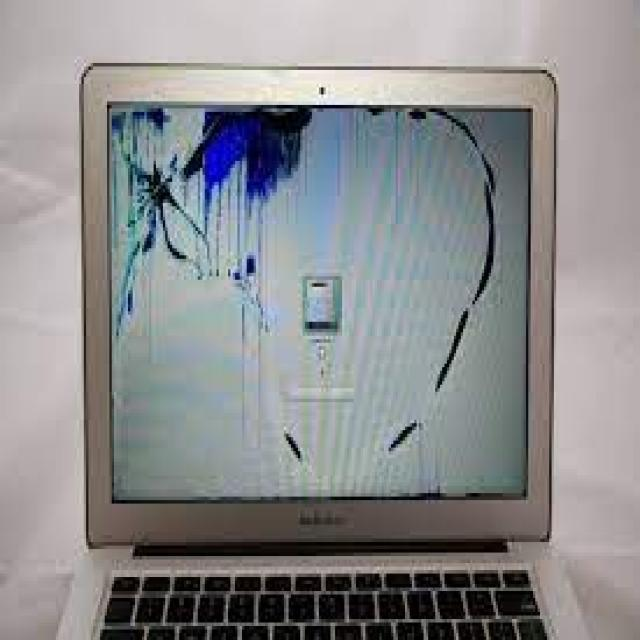Screen cracks: (110, 98, 514, 507)
